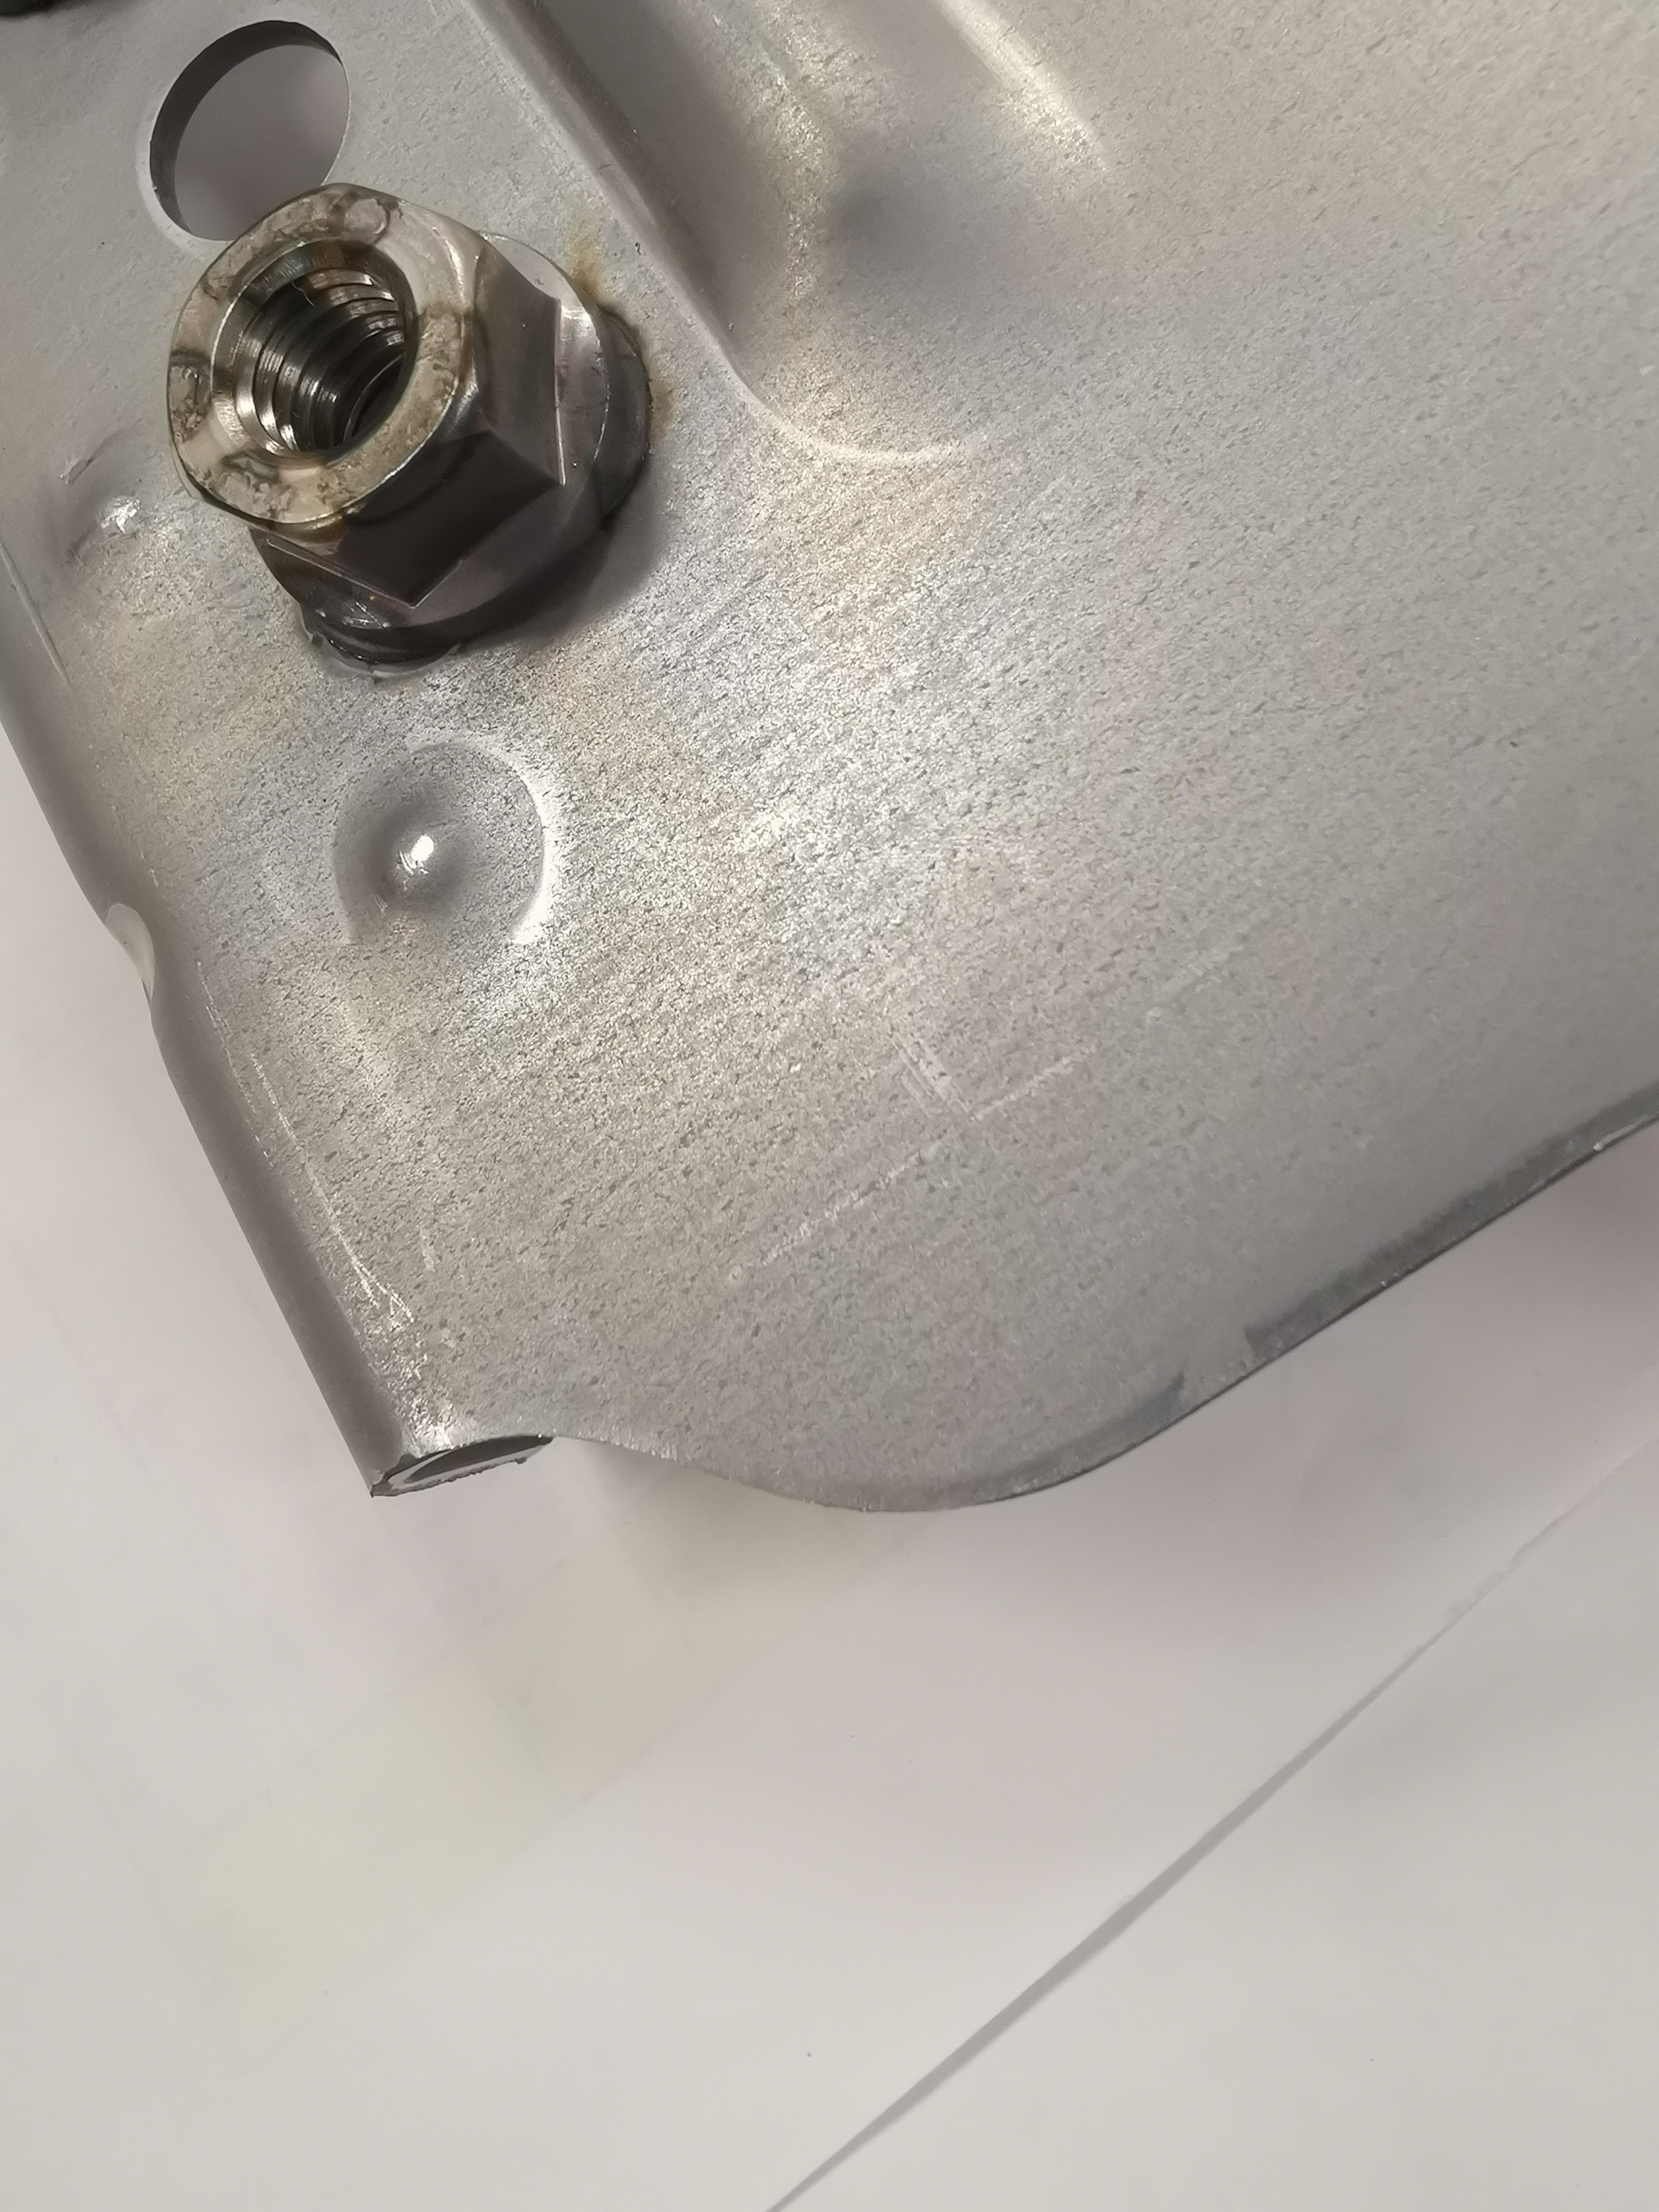dog: (157, 176, 666, 674)
